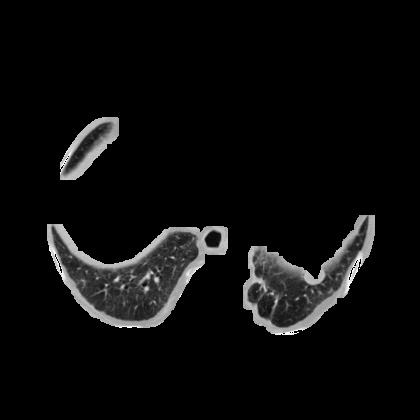PN: (305, 266, 323, 284)
